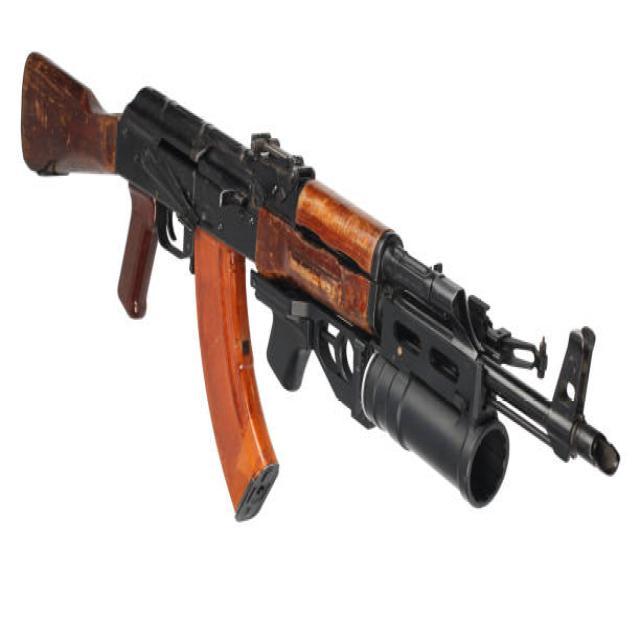rifle: (14, 43, 627, 530)
